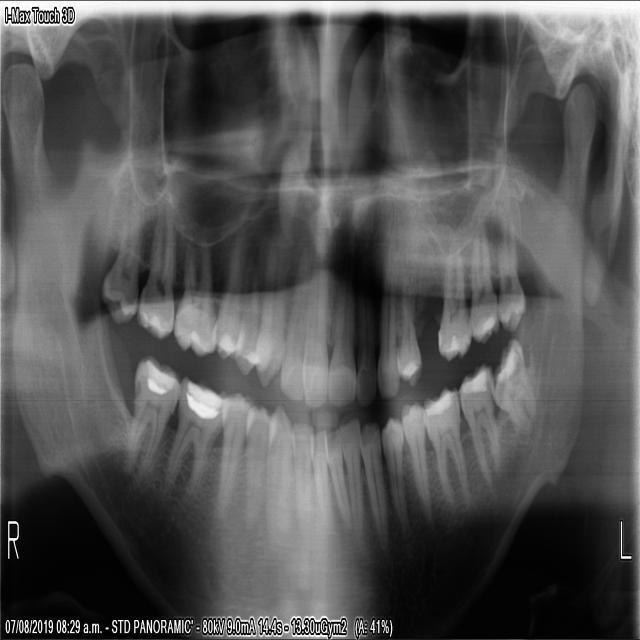LCD: (355, 413, 392, 548)
LCU: (374, 291, 398, 402)
LID: (335, 413, 369, 553), (321, 417, 354, 532)
LIU: (325, 284, 356, 409), (354, 298, 377, 406)
LMD: (457, 358, 509, 496), (420, 378, 471, 515), (488, 328, 543, 445)
LMU: (466, 219, 499, 349), (494, 213, 528, 335)
LPMD: (399, 397, 434, 525), (378, 412, 411, 532)
LPMU: (434, 243, 474, 363), (395, 290, 423, 393)
RCD: (262, 392, 295, 532)
RCU: (255, 288, 290, 390)
RID: (306, 419, 335, 532), (290, 417, 315, 528)
RIU: (276, 279, 309, 405), (299, 270, 328, 413)
RMD: (160, 364, 229, 504), (119, 342, 182, 470)
RMU: (97, 188, 146, 328), (133, 203, 178, 341), (170, 238, 216, 362)
RPMD: (210, 386, 252, 527), (242, 397, 276, 524)
RPMU: (233, 288, 263, 375), (213, 291, 245, 359)
